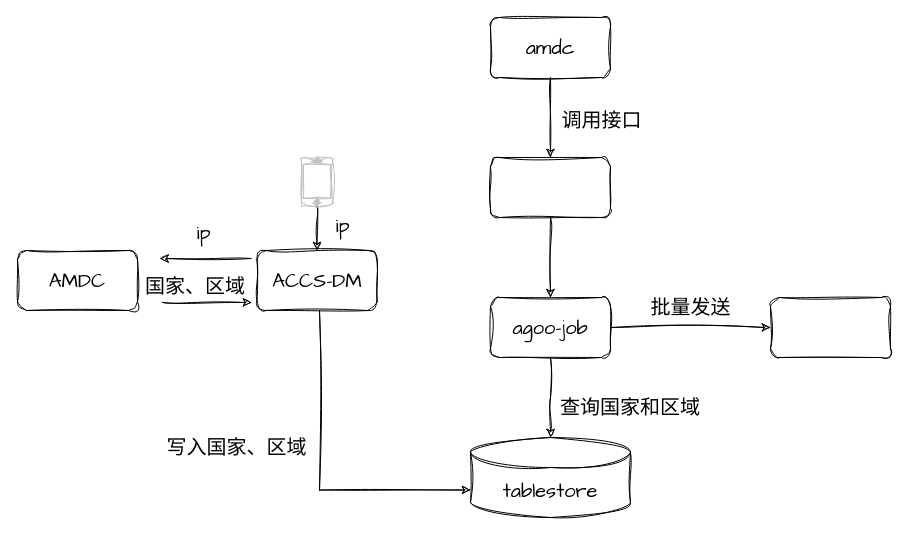
This 908x535 diagram has some shape labels left out. The centre of each missing label's shape, as x and y in pixels:
accs-mass: point (550, 187)
accs-sal: point (830, 327)
